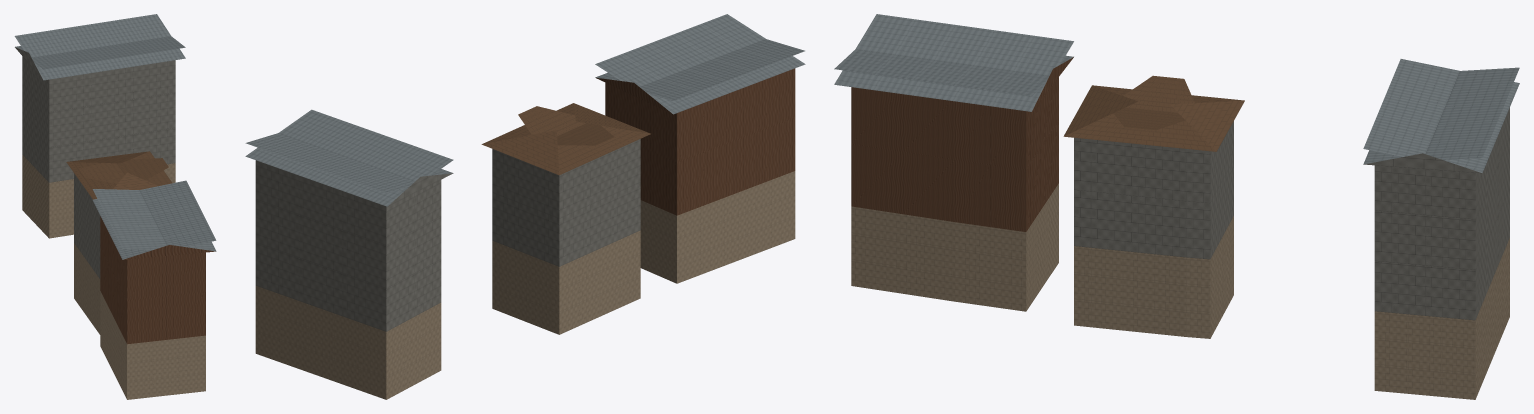
Rendered from bld_c9_26_410.gltf.
The picture shows the model from 3 angles, left to right: view 1: azimuth 30°, elevation 25°; view 2: azimuth 150°, elevation 25°; view 3: azimuth 270°, elevation 25°; orthographic projection. The views are drawn at different scales.
Visible parts, largest first — view 1: bld_c9_26_410; view 2: bld_c9_26_410; view 3: bld_c9_26_410.
Part boxes in pixels (<box>): bld_c9_26_410: <box>14,14,216,399</box>; bld_c9_26_410: <box>245,14,805,399</box>; bld_c9_26_410: <box>834,14,1519,399</box>.
Size of the model in its own units: 23.63 by 16.4 by 39.85.
7 materials, 7 textured.
